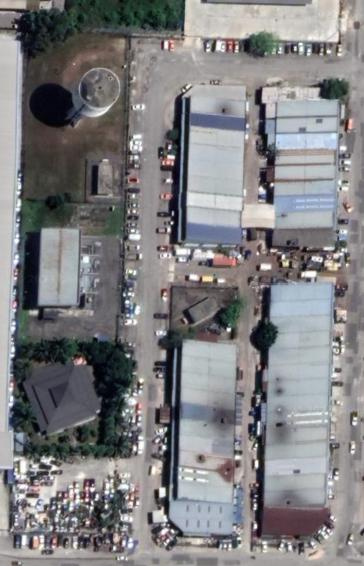building: (17, 359, 106, 440), (32, 225, 84, 308), (164, 500, 237, 539), (255, 506, 332, 540), (176, 82, 248, 118), (170, 224, 242, 252), (166, 479, 236, 505), (268, 228, 339, 253), (177, 125, 247, 150), (172, 369, 240, 394), (264, 98, 341, 120), (173, 336, 238, 362), (167, 463, 237, 487), (170, 417, 237, 442), (175, 141, 245, 164), (173, 353, 239, 377), (169, 449, 239, 471), (271, 208, 337, 231), (267, 345, 333, 368), (174, 176, 246, 197), (175, 206, 243, 228), (169, 434, 237, 456), (268, 281, 335, 303), (175, 159, 245, 180), (169, 386, 239, 407), (265, 392, 331, 414), (169, 403, 238, 424), (174, 190, 246, 210), (262, 116, 341, 134), (264, 377, 331, 398), (262, 133, 340, 151), (265, 148, 340, 166), (266, 164, 337, 183), (263, 425, 330, 445), (262, 441, 329, 461), (265, 362, 331, 382), (265, 411, 331, 431), (268, 315, 335, 334), (266, 299, 335, 317), (273, 194, 338, 213), (268, 332, 333, 351), (263, 457, 328, 476), (179, 114, 247, 132), (267, 179, 337, 196), (262, 474, 328, 492), (262, 490, 327, 508), (71, 352, 88, 364)
